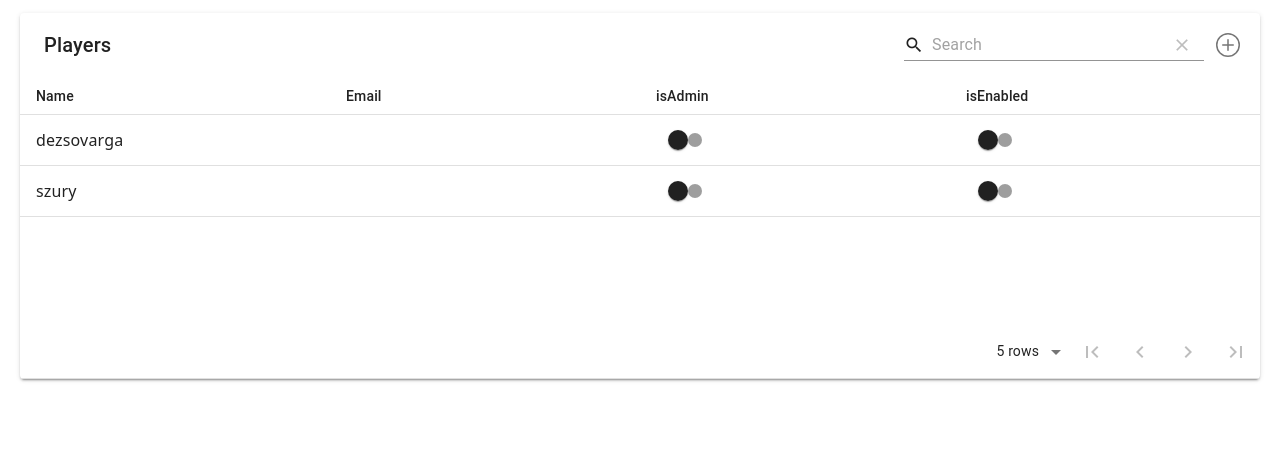
Scenario: PlayersTable component › Clicking on the isAdmin switch, failure message is shown saying the update failed
Step 1. Click the element with test id "isAdminSwitch_1" → (678, 140), box [668,133,688,147]
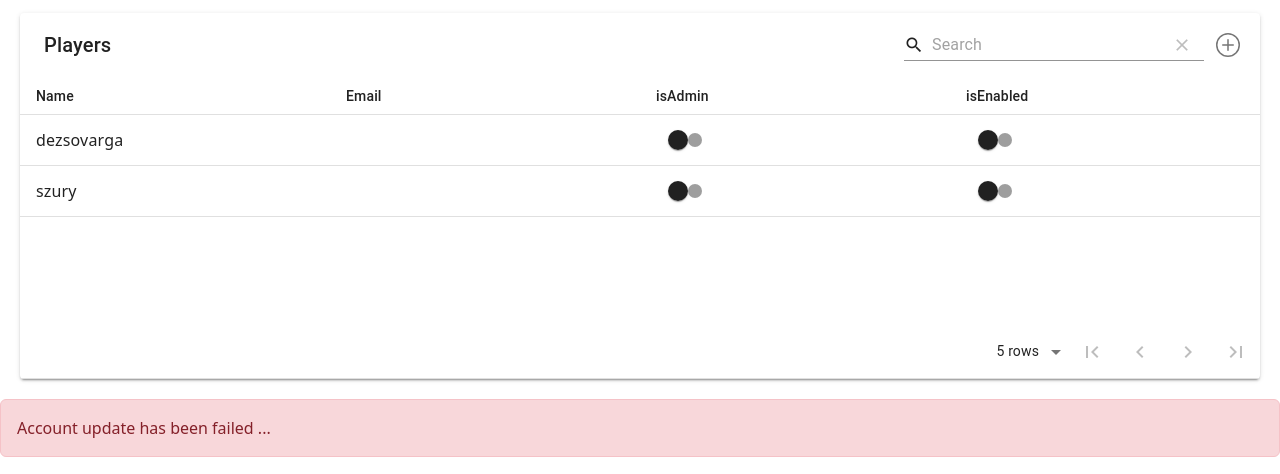
Check: the message "Account update has been failed ..." is shown, box [0,399,1279,457]
